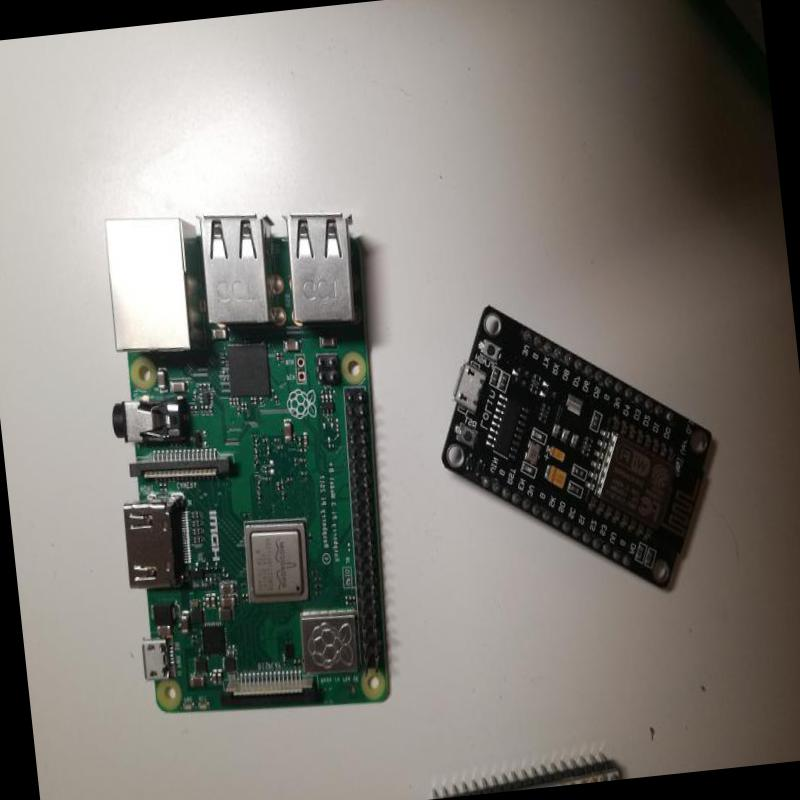ESP8266: (421, 280, 742, 618)
Raspberry_Pi_3: (82, 186, 427, 748)
